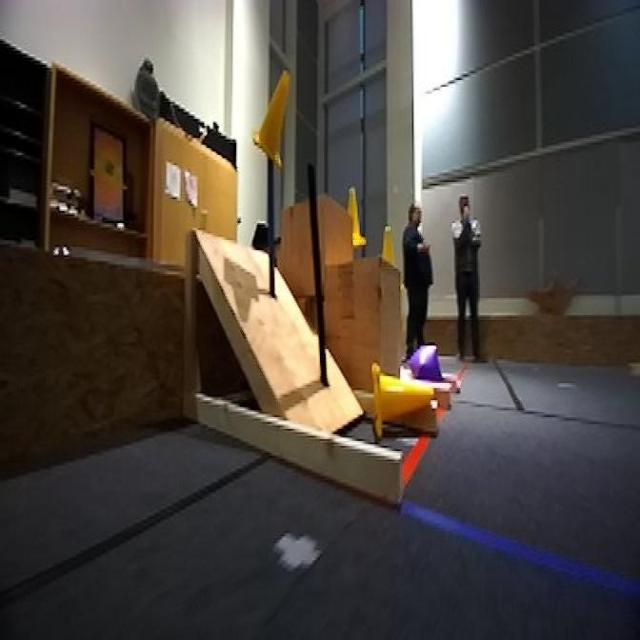frc_cone: (369, 364, 437, 441), (254, 68, 292, 172), (338, 182, 365, 249), (382, 223, 398, 262)
frc_cube: (408, 342, 444, 393)
